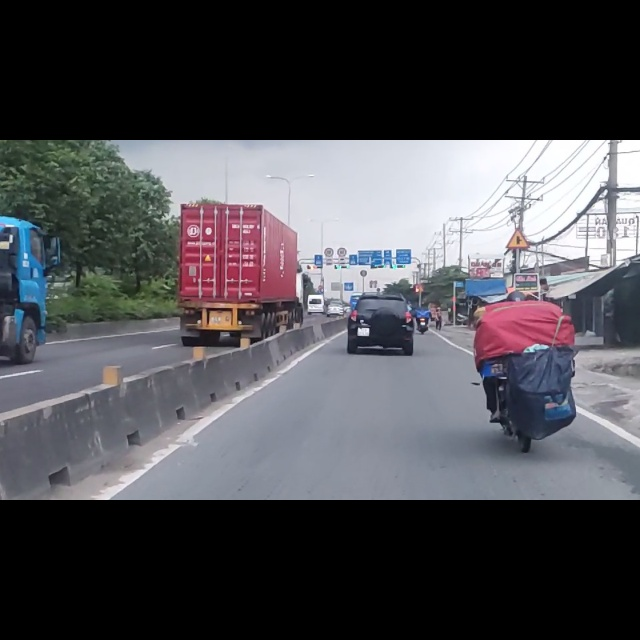bien_cam: (506, 155, 530, 196), (336, 190, 347, 213)
